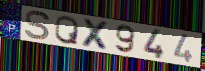4: (142, 28, 166, 61), (172, 33, 194, 65)
9: (114, 25, 137, 54)
Q: (54, 15, 80, 46)
S: (24, 9, 51, 41)
X: (81, 17, 111, 52)
